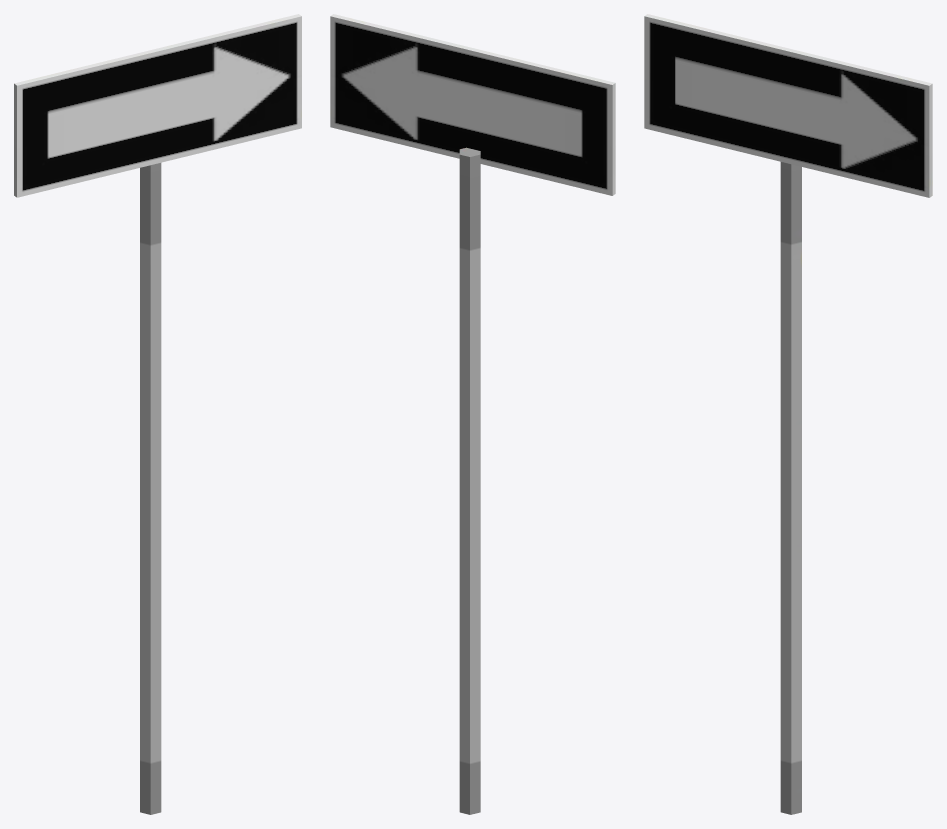
Rendered from city_sign_02.glb.
3 renders of one model, left to right at view 1: azimuth 30°, elevation 25°; view 2: azimuth 150°, elevation 25°; view 3: azimuth 330°, elevation 25°, orthographic.
Parts seen in each view (by area): view 1: city:polySurface316; view 2: city:polySurface316; view 3: city:polySurface316.
Boxes of the visible parts, bbox=[...] form: city:polySurface316: bbox=[14, 14, 301, 814]; city:polySurface316: bbox=[330, 14, 615, 814]; city:polySurface316: bbox=[644, 14, 932, 814].
Bounding box in the file's own units: 0.9675 × 2.48 × 0.0703.
Materials: 1 (1 with a texture image).
